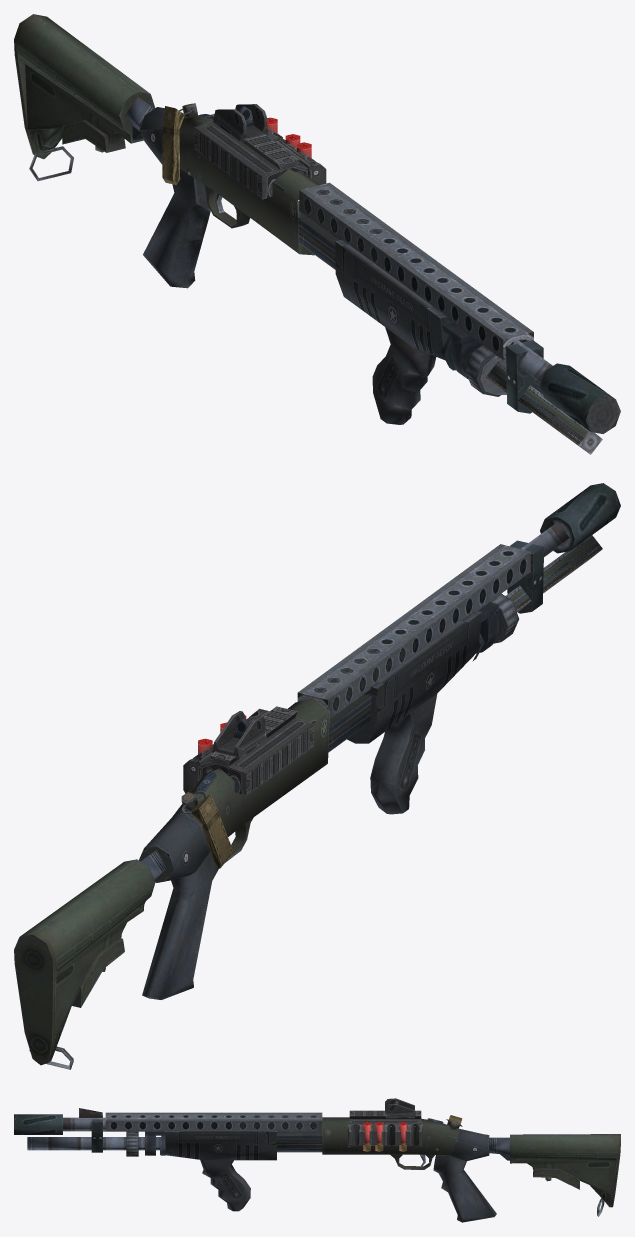
File: Shotgun_sdq_01_lod1_Body_LOD_(000325).glb
3 views of the same model, one above another, from view 1: azimuth 30°, elevation 25°; view 2: azimuth 150°, elevation 25°; view 3: azimuth 270°, elevation 25° (orthographic). The views are drawn at different scales.
Parts seen in each view (by area): view 1: sdq_01_lod1; view 2: sdq_01_lod1; view 3: sdq_01_lod1.
Part boxes in pixels (x1,y1,x2,y2): sdq_01_lod1: [14, 14, 620, 454]; sdq_01_lod1: [14, 483, 620, 1069]; sdq_01_lod1: [14, 1098, 620, 1222].
Size of the model in its own units: 0.1188 by 0.3543 by 1.65.
Materials: 1 (1 with a texture image).
